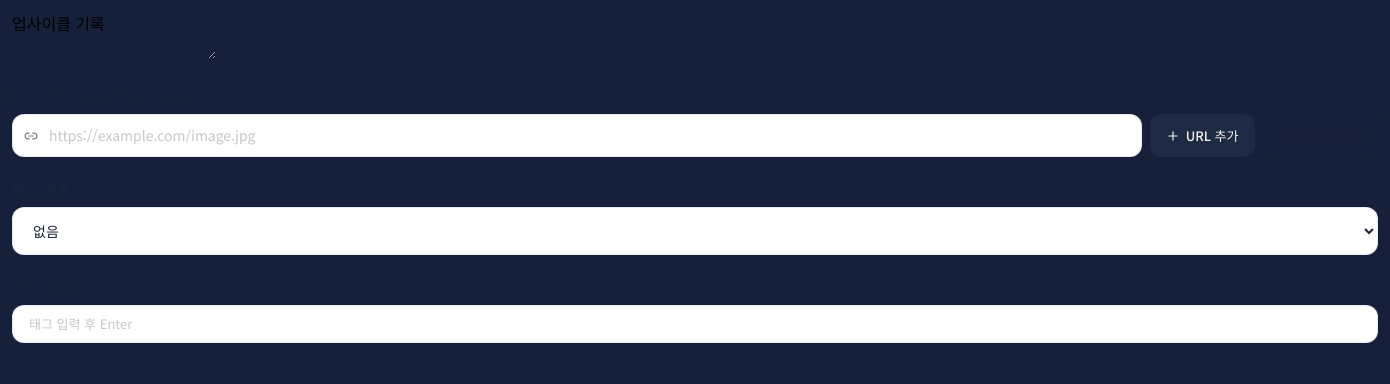
Scenario: PostComposeForm › https 가 아닌 이미지 URL(ftp·외부 http)은 추가하지 않는다
Type "ftp://example.com/a.jpg" into the field with placeholder "https://example.com/image.jpg" at (577, 136), box [12, 114, 1142, 157]
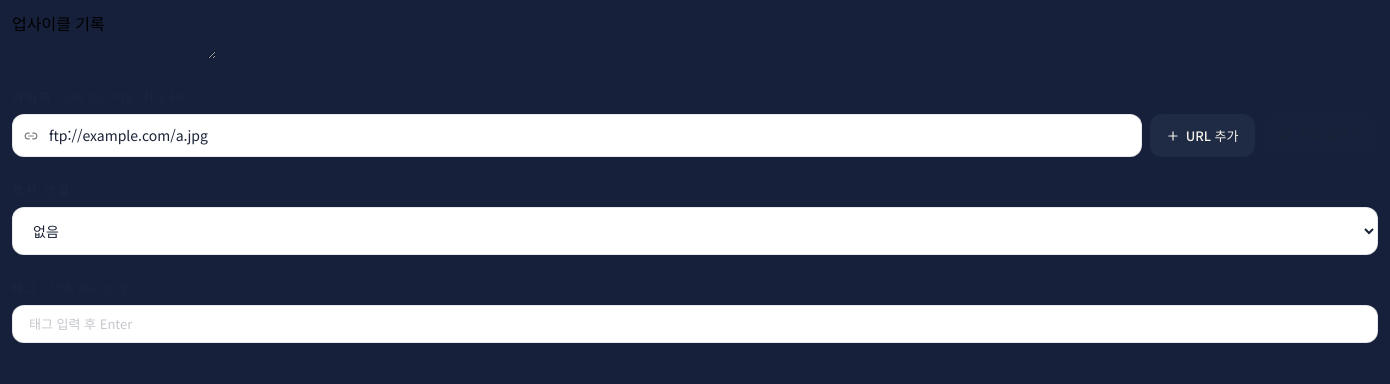
Click the button with aria-label "이미지 URL 추가" at (1202, 136), box [1150, 114, 1255, 157]
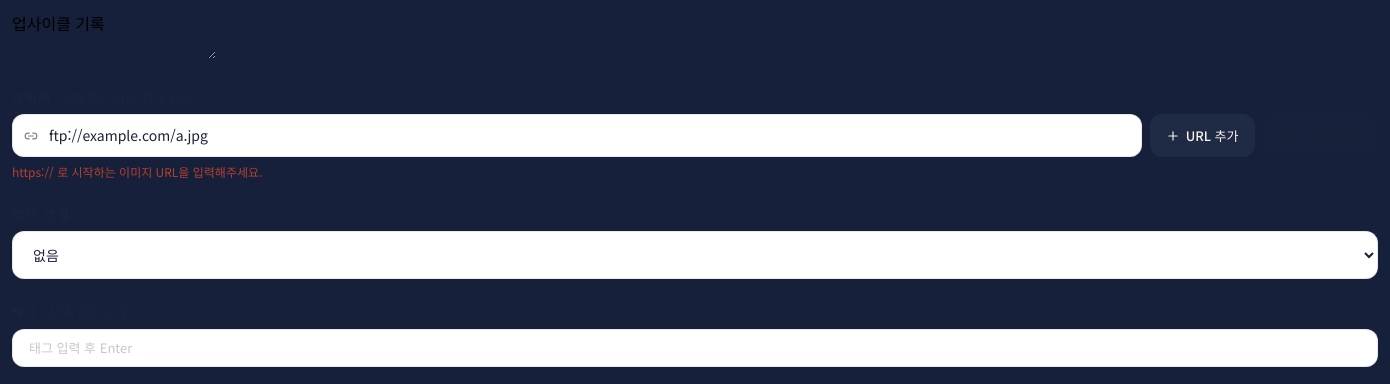
Now the message reads "https:// 로 시작하는 이미지 URL을 입력해주세요.", box [12, 163, 262, 180]
Replace the text in the field with placeholder "https://example.com/image.jpg" with "http://tracker.example/pixel.gif" at (577, 136), box [12, 114, 1142, 157]
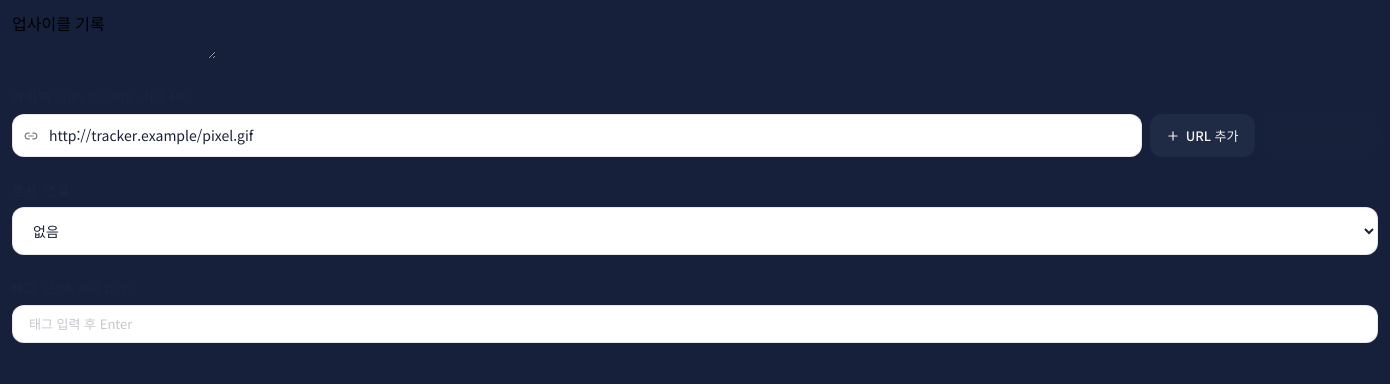
Click the button with aria-label "이미지 URL 추가" at (1202, 136), box [1150, 114, 1255, 157]
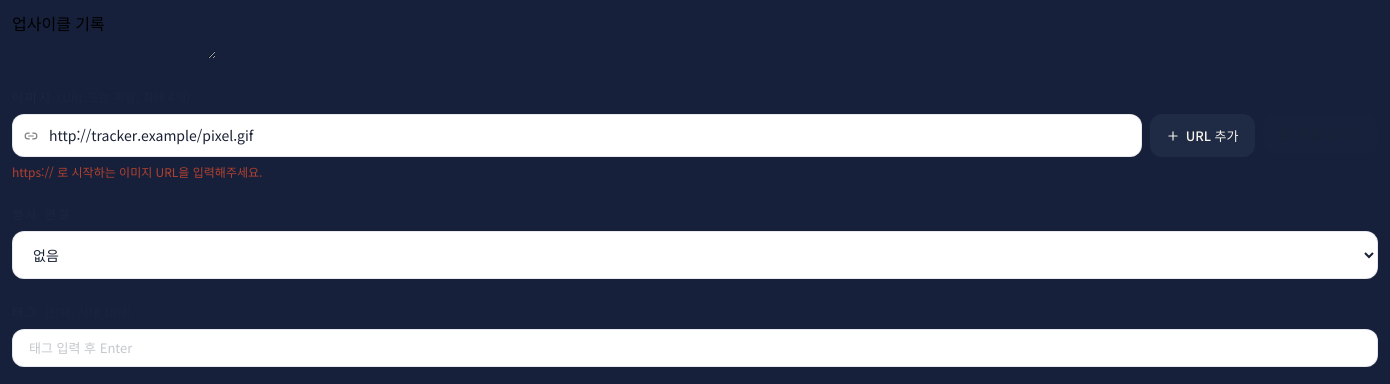
Now the message reads "https:// 로 시작하는 이미지 URL을 입력해주세요.", box [12, 163, 262, 180]
